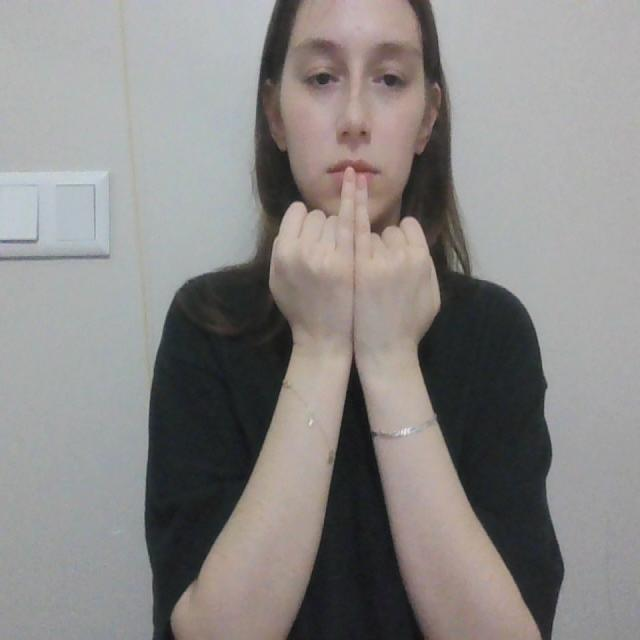Kardes: (264, 163, 448, 364)
